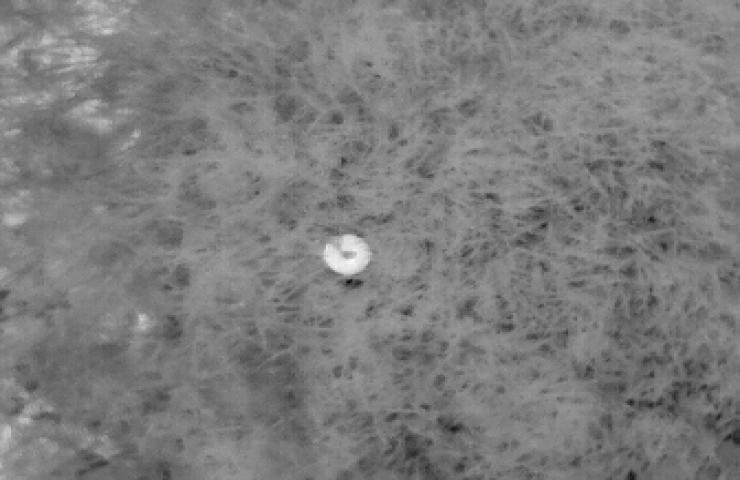landmines: (320, 226, 379, 280)
